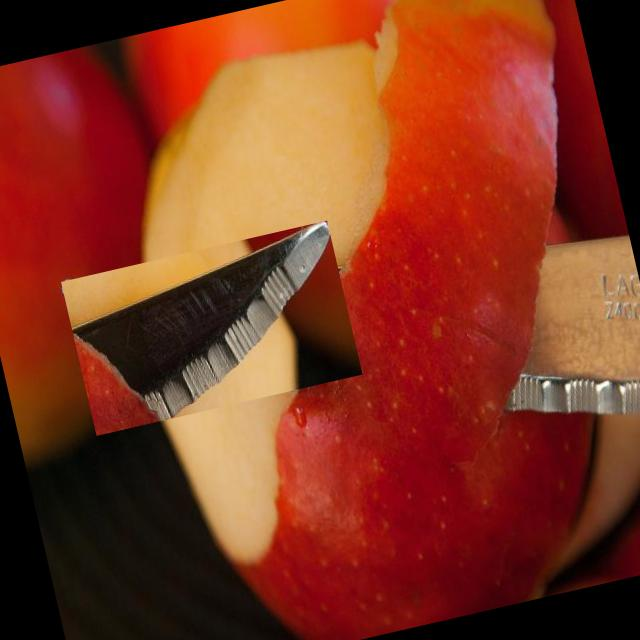Knife: (72, 222, 330, 420), (507, 235, 640, 413)
